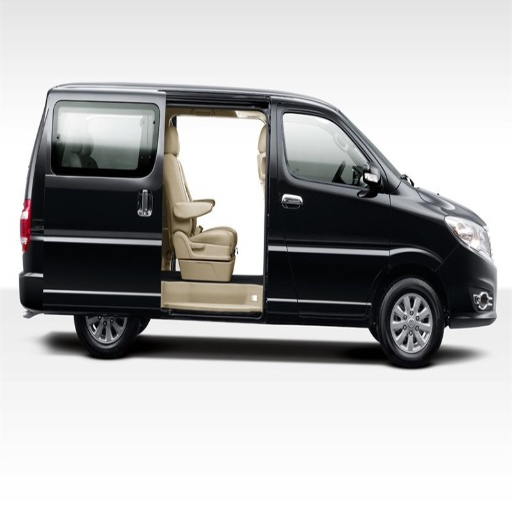back_bumper: (20, 245, 142, 309)
front_right_door: (278, 98, 388, 319)
trunk: (39, 177, 159, 299)
